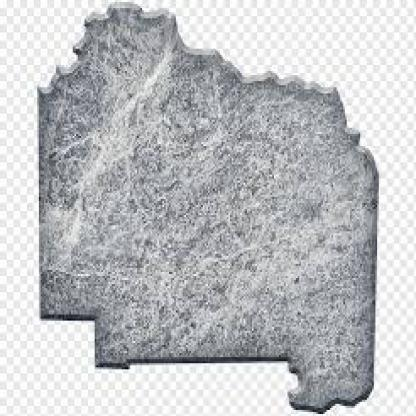Metamorphic_Marble: (31, 6, 382, 410)
